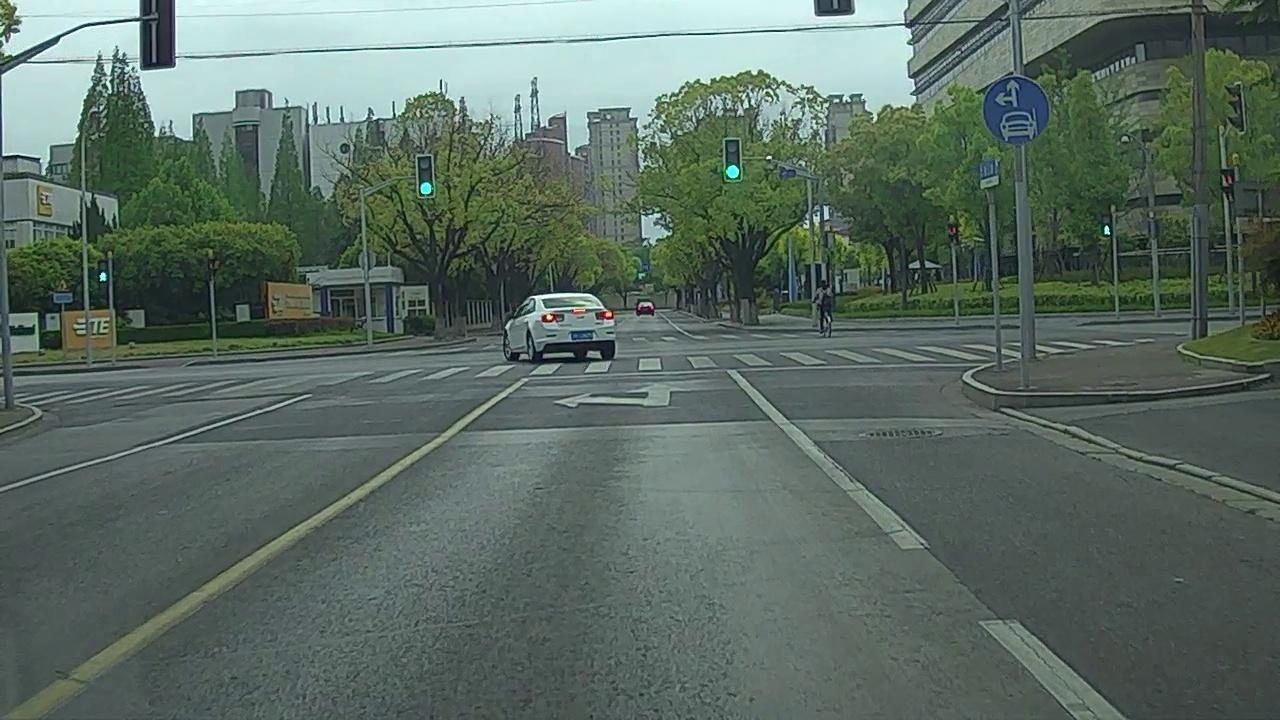traffic_light: (724, 139, 742, 182), (417, 156, 435, 196)
